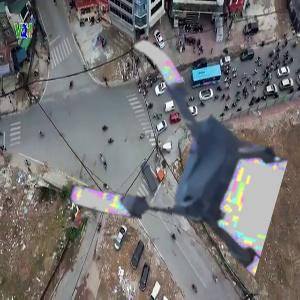drone: (75, 43, 288, 256)
